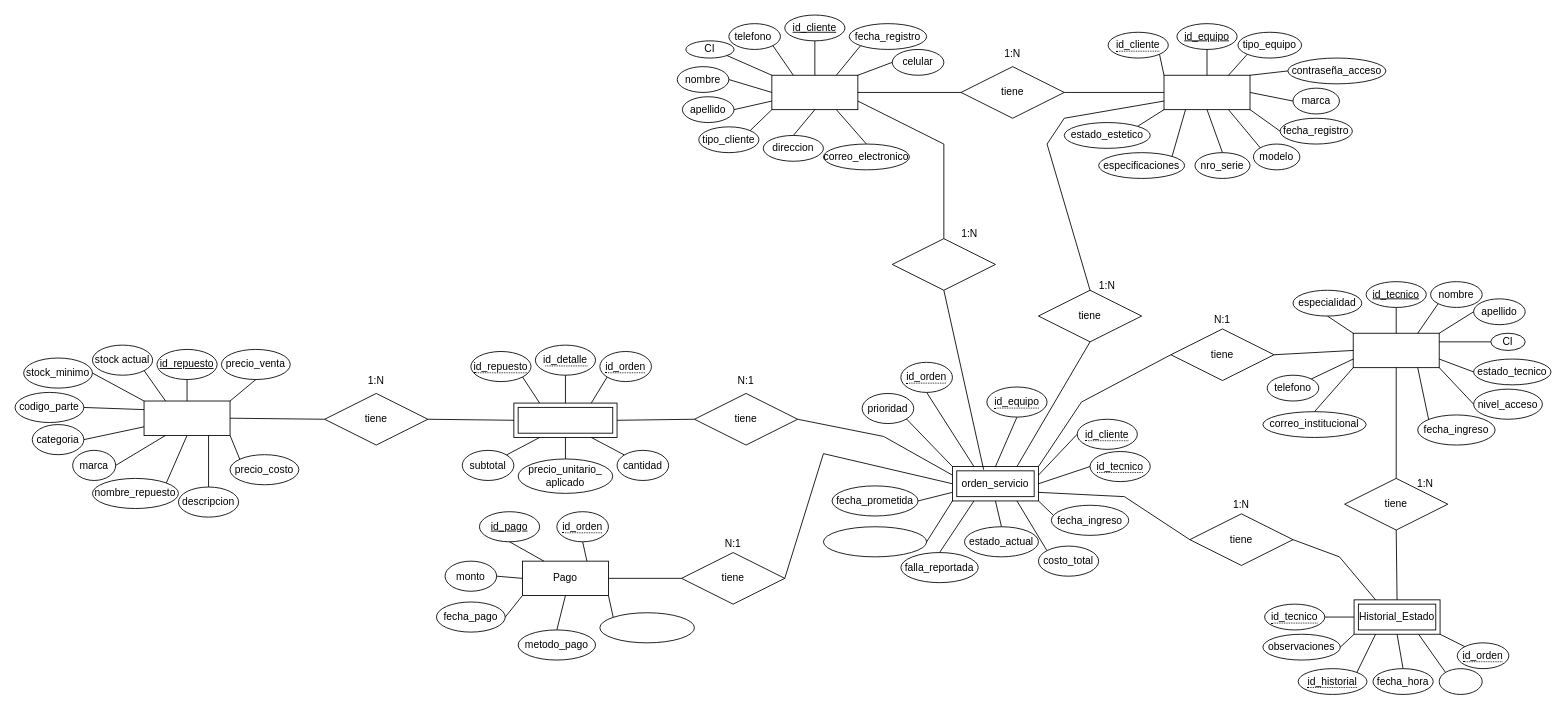
Some shapes in this 1566 by 710 pixel diagram are drawn without their labels. Here are the shapes that lost their labels. From the top down, the box of each, then its label:
(771, 74, 858, 110): Cliente
(1163, 74, 1250, 110): Equipo
(891, 238, 995, 290): genera
(1352, 332, 1439, 368): Tecnico
(143, 400, 230, 435): Repuesto
(513, 402, 617, 437): Detalle_Reparacion
(823, 526, 927, 557): diagnostico_tecnico
(599, 612, 694, 643): nro_comprobante
(1438, 668, 1482, 694): estado
